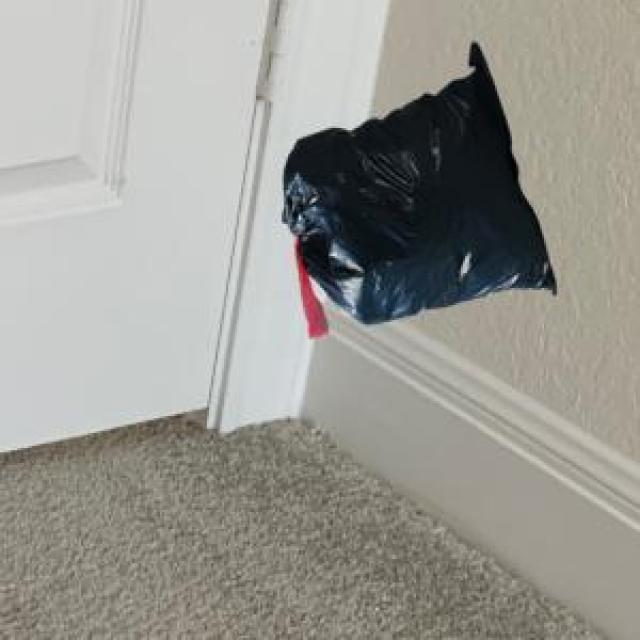miscellaneous trash: (280, 38, 553, 335)
